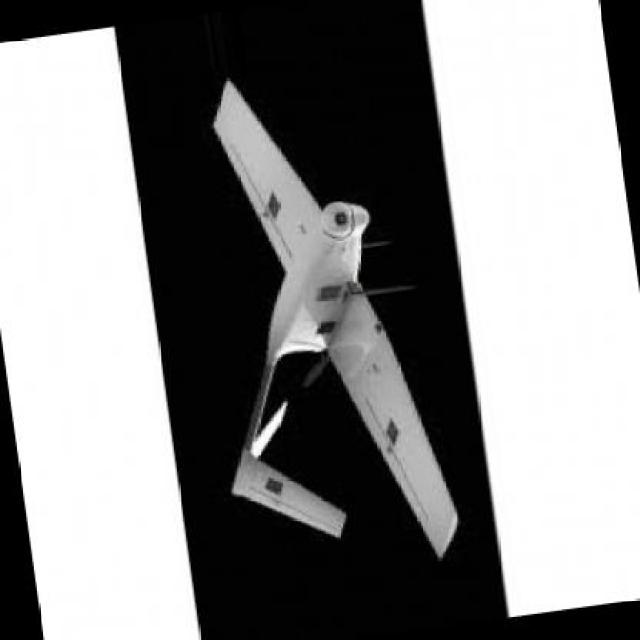iha: (210, 75, 462, 561)
